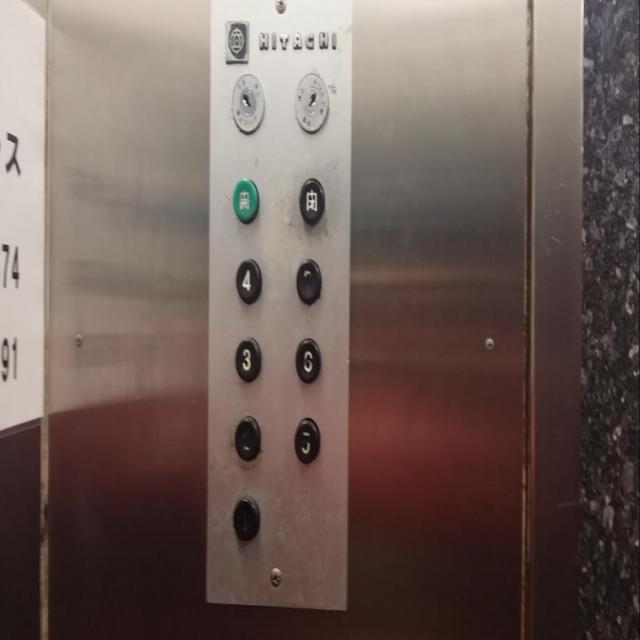1: (232, 493, 260, 542)
2: (233, 410, 260, 462)
3: (233, 332, 261, 382)
4: (235, 257, 262, 305)
6: (294, 336, 321, 383)
blur: (292, 414, 320, 464), (295, 256, 322, 306)
keyhole: (231, 72, 264, 132), (295, 72, 328, 132)
text: (299, 178, 324, 224), (232, 178, 258, 222)
unknown: (224, 19, 249, 63)
